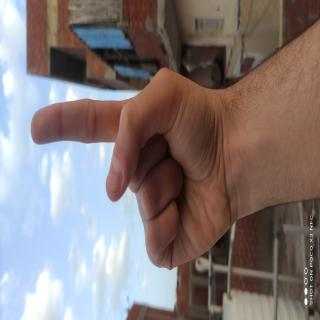BAA: (20, 57, 119, 320)
